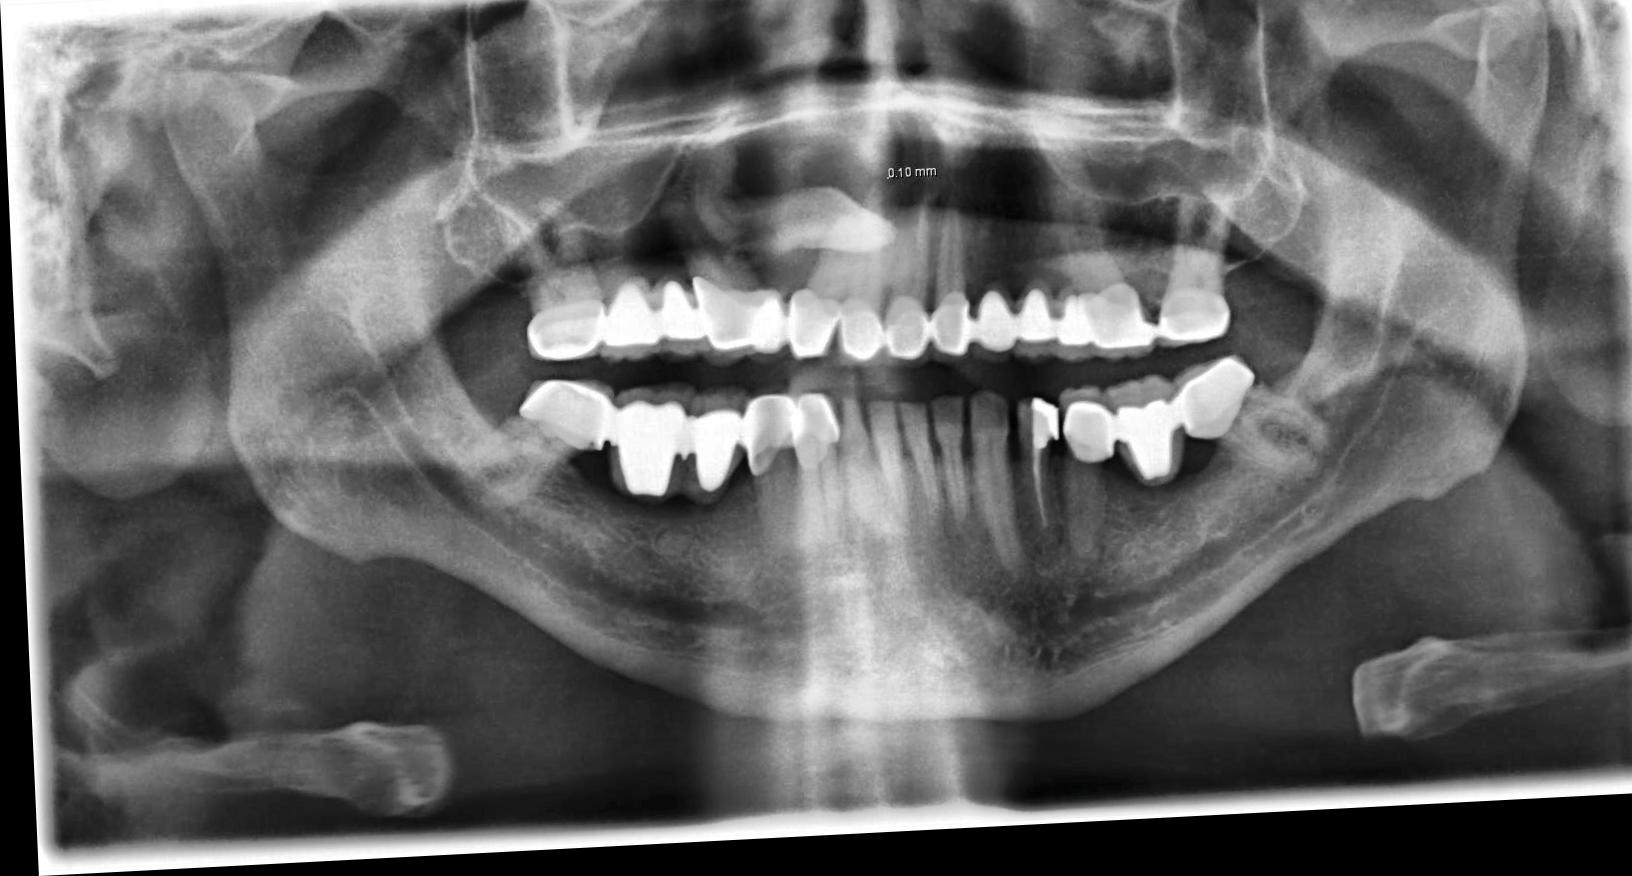dentigerous: (615, 99, 950, 296)
